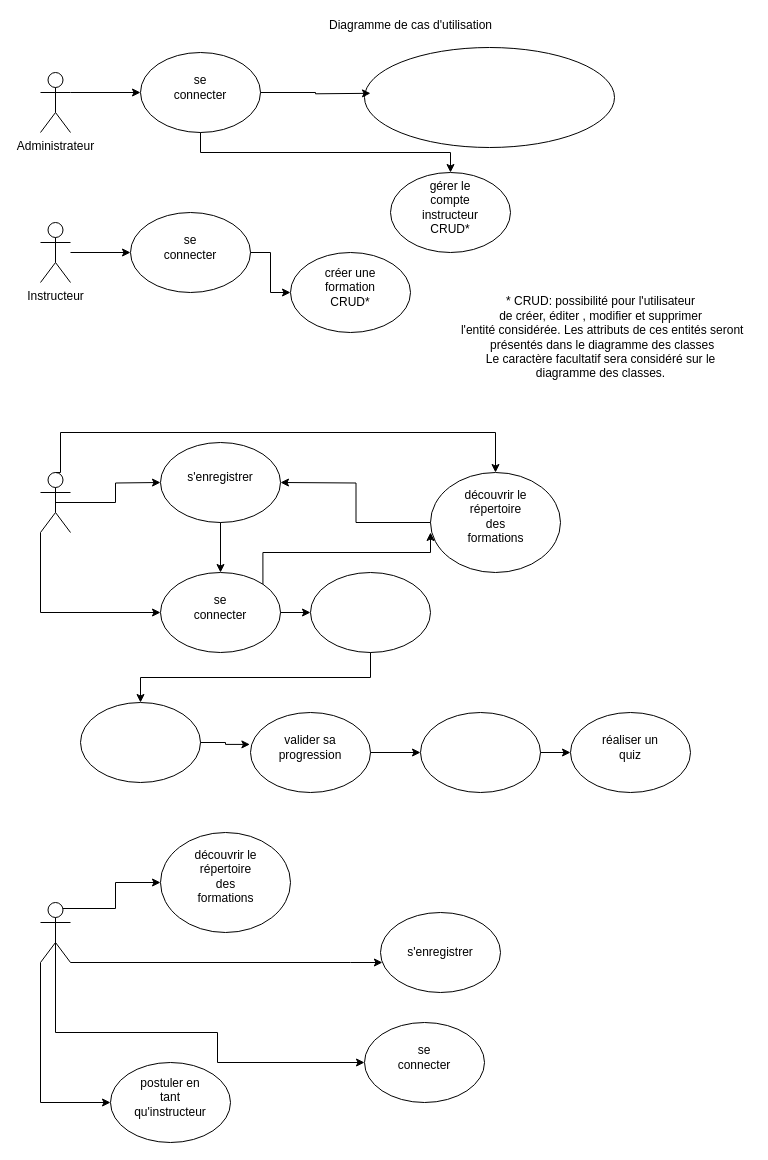
Image size: 768x1160. Some labels were removed from this diagram. The centre of each missing label's shape, as x and y in pixels:
"Apprenant" goes at point (55, 502).
"cliquer sur leçon terminée" goes at point (140, 742).
"suivre les formations" goes at point (370, 612).
"terminer sa progression" goes at point (480, 752).
"valider la demande du visiteur pour devenir instructeur" goes at point (489, 97).
"Visiteur" goes at point (55, 932).
